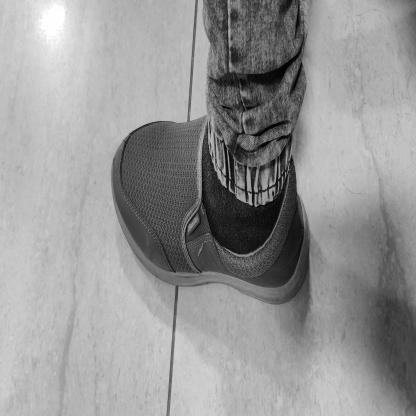ankle: (236, 253, 241, 263)
heel: (304, 233, 309, 247)
left_foot: (112, 118, 311, 307)
pinky: (126, 207, 128, 222)
toe: (133, 135, 139, 143)
